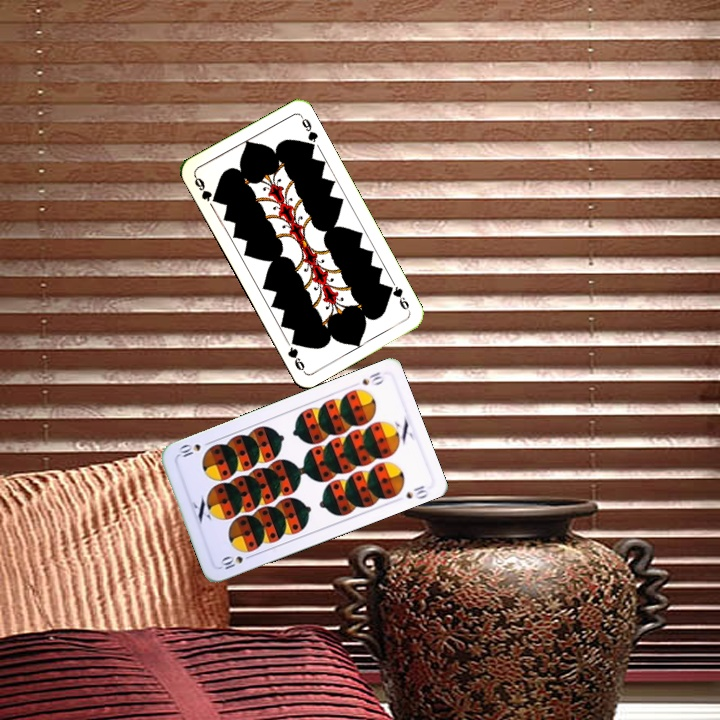G9: (383, 277, 413, 315), (190, 172, 221, 205)
S10: (216, 550, 256, 572), (358, 368, 387, 388)
